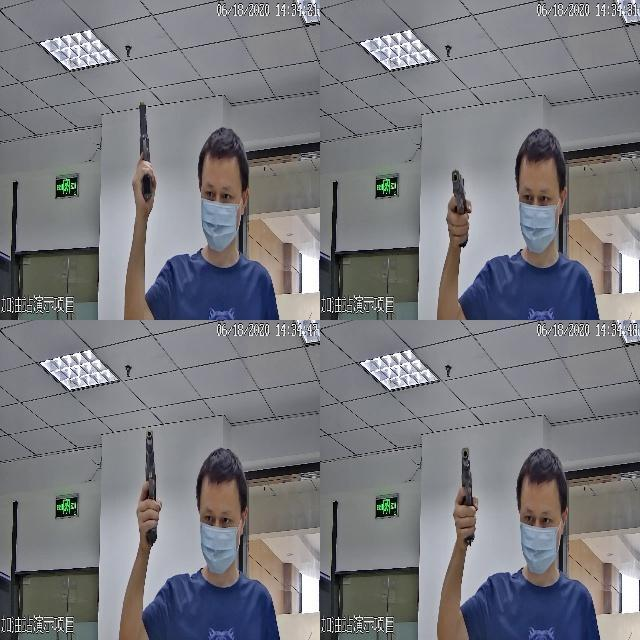gun-knife-thesis - v11 Yolov5 augmented: (132, 429, 162, 548), (453, 441, 479, 545), (442, 165, 472, 252), (135, 96, 153, 201)
